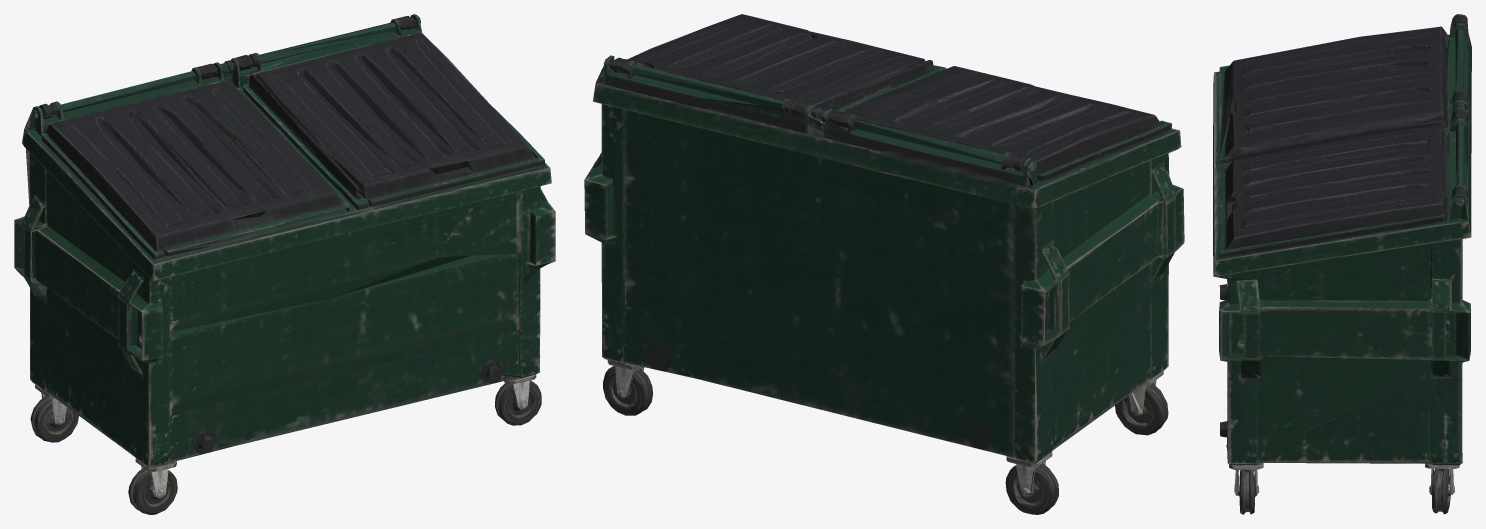
The model's file is dumpster.glb.
3 renders of one model, left to right at view 1: azimuth 30°, elevation 25°; view 2: azimuth 150°, elevation 25°; view 3: azimuth 270°, elevation 25°, orthographic. The views are drawn at different scales.
Visible parts, largest first — view 1: output_unwrapped; view 2: output_unwrapped; view 3: output_unwrapped.
Part boxes in pixels (left/top/right/bottom): output_unwrapped: left=14, top=14, right=555, bottom=514; output_unwrapped: left=584, top=14, right=1184, bottom=514; output_unwrapped: left=1213, top=14, right=1471, bottom=514.
Bounding box in the file's own units: 2.01 × 1.5 × 1.1.
1 material, 1 textured.
